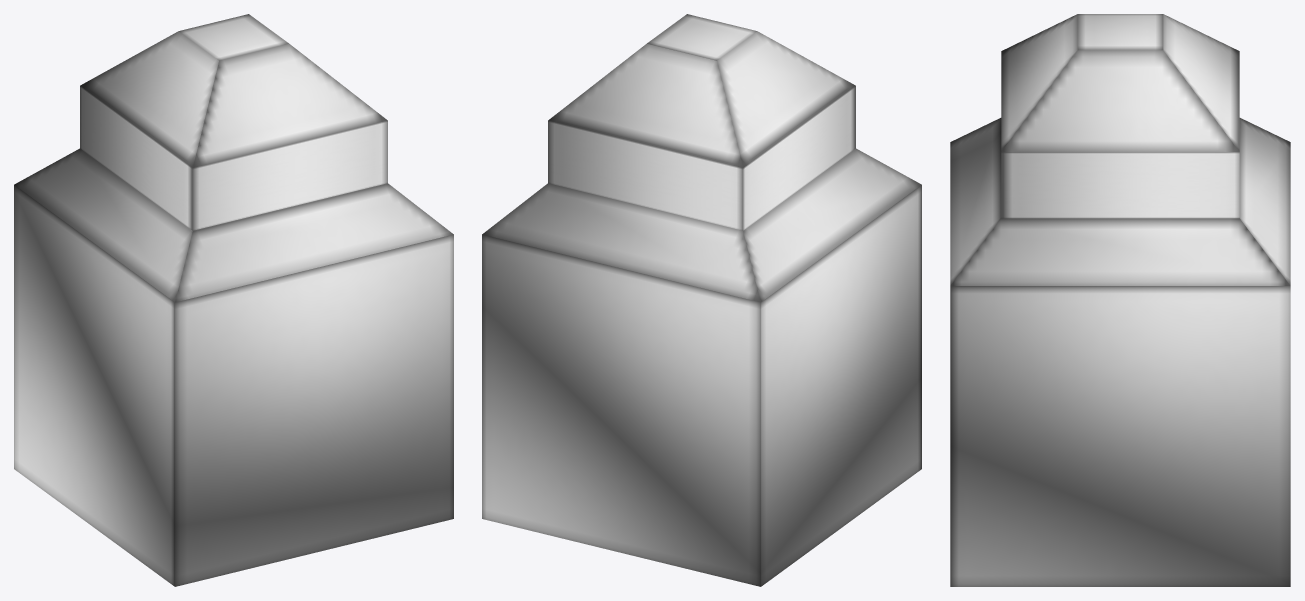
Rendered from Pillar-02.fbx.
3 renders of one model, left to right at view 1: azimuth 30°, elevation 25°; view 2: azimuth 150°, elevation 25°; view 3: azimuth 270°, elevation 25°, orthographic. The views are drawn at different scales.
Parts seen in each view (by area): view 1: Pillar-02; view 2: Pillar-02; view 3: Pillar-02.
Part boxes in pixels (box(x1,y1,x2,y2)): Pillar-02: box(14, 14, 453, 586); Pillar-02: box(482, 14, 921, 586); Pillar-02: box(950, 14, 1290, 586).
Size of the model in its own units: 0.3333 by 0.5216 by 0.3333.
